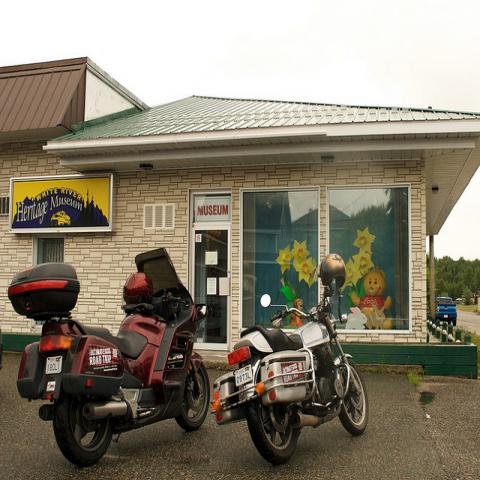motorcycle: (11, 244, 209, 463), (216, 289, 368, 456)
truck: (436, 297, 457, 326)
